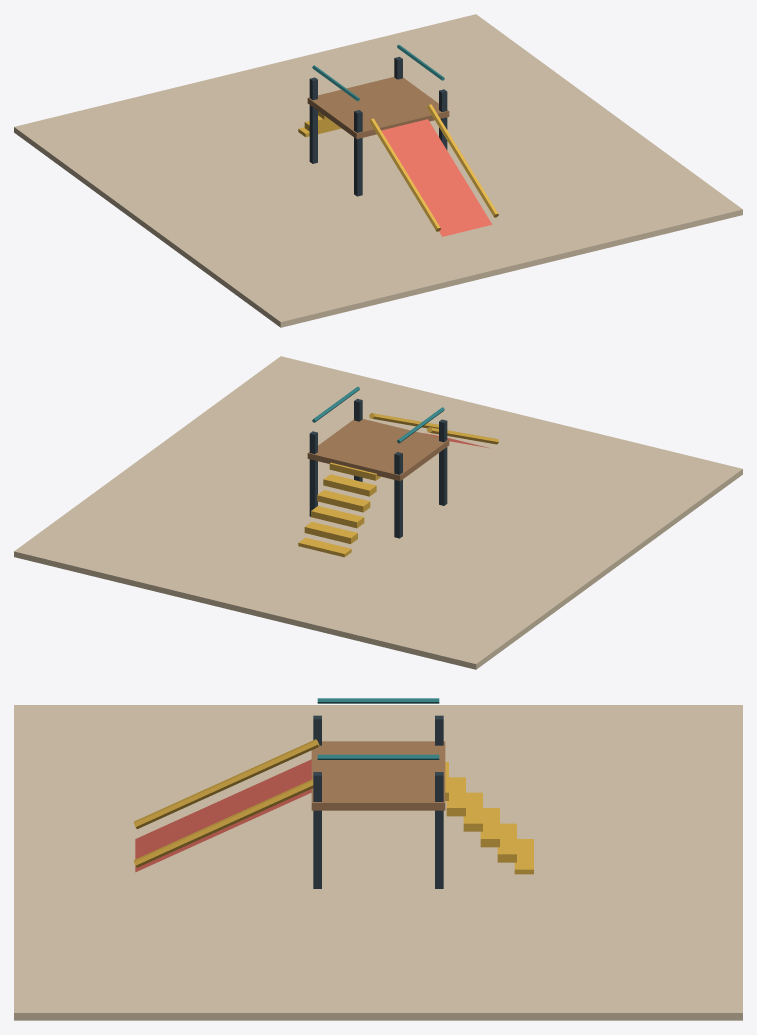
The model's file is Playground.fbx.
3 views of the same model, one above another, from view 1: azimuth 30°, elevation 25°; view 2: azimuth 150°, elevation 25°; view 3: azimuth 270°, elevation 25° (orthographic). The views are drawn at different scales.
Parts seen in each view (by area): view 1: Playground; view 2: Playground; view 3: Playground.
Part boxes in pixels (<box>): Playground: <box>14,14,742,327</box>; Playground: <box>14,356,742,669</box>; Playground: <box>14,698,742,1020</box>.
Bounding box in the file's own units: 12 × 2.54 × 12.
